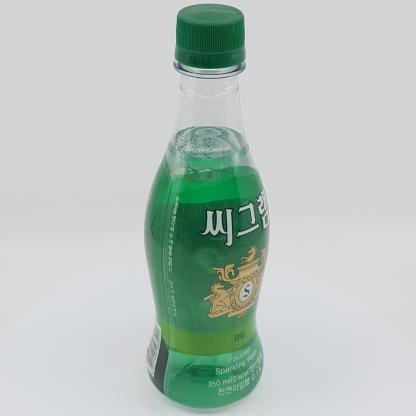-------350ML: (144, 4, 270, 411)
